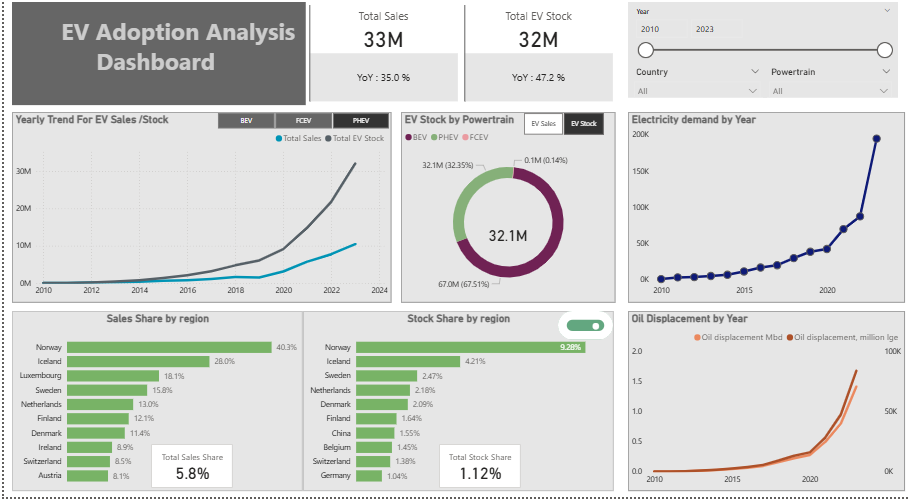

What the dashboard file says about the page in this screenshot:
{"tool":"powerbi","page":{"name":"Page 1","canvas":[1450,800],"ordinal":0},"visuals":[{"type":"cardVisual","fields":{"Data":["EV Data.Total Sales","EV Data.Total EV Stock"]},"box":[483.2,8,497.6,164.8],"z":0},{"type":"lineChart","title":"Yearly Trend For EV Sales /Stock","fields":{"Category":["EV Data.year"],"Y":["EV Data.Total Sales","EV Data.Total EV Stock"]},"box":[13.3,183.3,606.7,305],"z":1000},{"type":"slicer","fields":{"Values":["EV Data.powertrain"]},"box":[321.7,183.3,313.3,26.7],"z":2000},{"type":"slicer","fields":{"Values":["EV Data.region"]},"box":[998.4,107.2,222.4,54.4],"z":3000},{"type":"slicer","fields":{"Values":["EV Data.year"]},"box":[998.4,8,432,99.2],"z":4000},{"type":"donutChart","fields":{"Y":["EV Data.Total EV Stock"],"Category":["EV Data.powertrain"]},"box":[635,183.3,343.3,305],"z":5000},{"type":"slicer","fields":{"Values":["Sales/Stock Metric.Sales/Stock Metric"]},"box":[811.7,183.3,166.7,38.3],"z":6000},{"type":"clusteredBarChart","title":"Sales by region","fields":{"Y":["EV Data.Total Sales"],"Category":["EV Data.region"]},"box":[13.3,501.7,486.7,288.3],"z":7000},{"type":"cardVisual","fields":{"Data":["EV Data.Total Sales"]},"box":[216,710.4,120,80],"z":8000},{"type":"clusteredBarChart","title":"EV Stock by region","fields":{"Category":["EV Data.region"],"Y":["EV Data.Total EV Stock"]},"box":[500,501.7,480,288.3],"z":9000},{"type":"cardVisual","fields":{"Data":["EV Data.Total EV Stock"]},"box":[678.4,710.4,124.8,80],"z":10000},{"type":"bookmarkNavigator","box":[886.7,501.7,88.3,46.7],"z":15000},{"type":"lineChart","title":"Electricity demand by Year","fields":{"Category":["EV Data.year"],"Y":["Sum(EV Data.Electricity demand)"]},"box":[998.3,183.3,443.3,305],"z":16000},{"type":"lineChart","title":"Oil Displacement by Year","fields":{"Category":["EV Data.year"],"Y":["Sum(EV Data.Oil displacement Mbd)"],"Y2":["Sum(EV Data.Oil displacement, million lge)"]},"box":[998.3,501.7,443.3,288.3],"z":17000},{"type":"slicer","fields":{"Values":["EV Data.powertrain"]},"box":[1214.4,107.2,216,54.4],"z":18000},{"type":"card","fields":{"Values":["EV Data.Total EV Stock"]},"box":[760,348.8,92.8,65.6],"z":19000},{"type":"textbox","box":[13,8,470,165],"z":20000}]}

Visuals, with their boxes in screenshot pixels (x1, y1, x2, y2), scaled from the page's 1450x800 canvas onto the 910x499 screenshot:
cardVisual - EV Data.Total Sales x EV Data.Total EV Stock: [303, 5, 616, 108]
"Yearly Trend For EV Sales /Stock" lineChart: [8, 114, 389, 305]
slicer - EV Data.powertrain: [202, 114, 399, 131]
slicer - EV Data.region: [627, 67, 766, 101]
slicer - EV Data.year: [627, 5, 898, 67]
donutChart - EV Data.Total EV Stock x EV Data.powertrain: [399, 114, 614, 305]
slicer - Sales/Stock Metric.Sales/Stock Metric: [509, 114, 614, 138]
"Sales by region" clusteredBarChart: [8, 313, 314, 493]
cardVisual - EV Data.Total Sales: [136, 443, 211, 493]
"EV Stock by region" clusteredBarChart: [314, 313, 615, 493]
cardVisual - EV Data.Total EV Stock: [426, 443, 504, 493]
bookmarkNavigator: [556, 313, 612, 342]
"Electricity demand by Year" lineChart: [627, 114, 905, 305]
"Oil Displacement by Year" lineChart: [627, 313, 905, 493]
slicer - EV Data.powertrain: [762, 67, 898, 101]
card - EV Data.Total EV Stock: [477, 218, 535, 258]
textbox: [8, 5, 303, 108]
